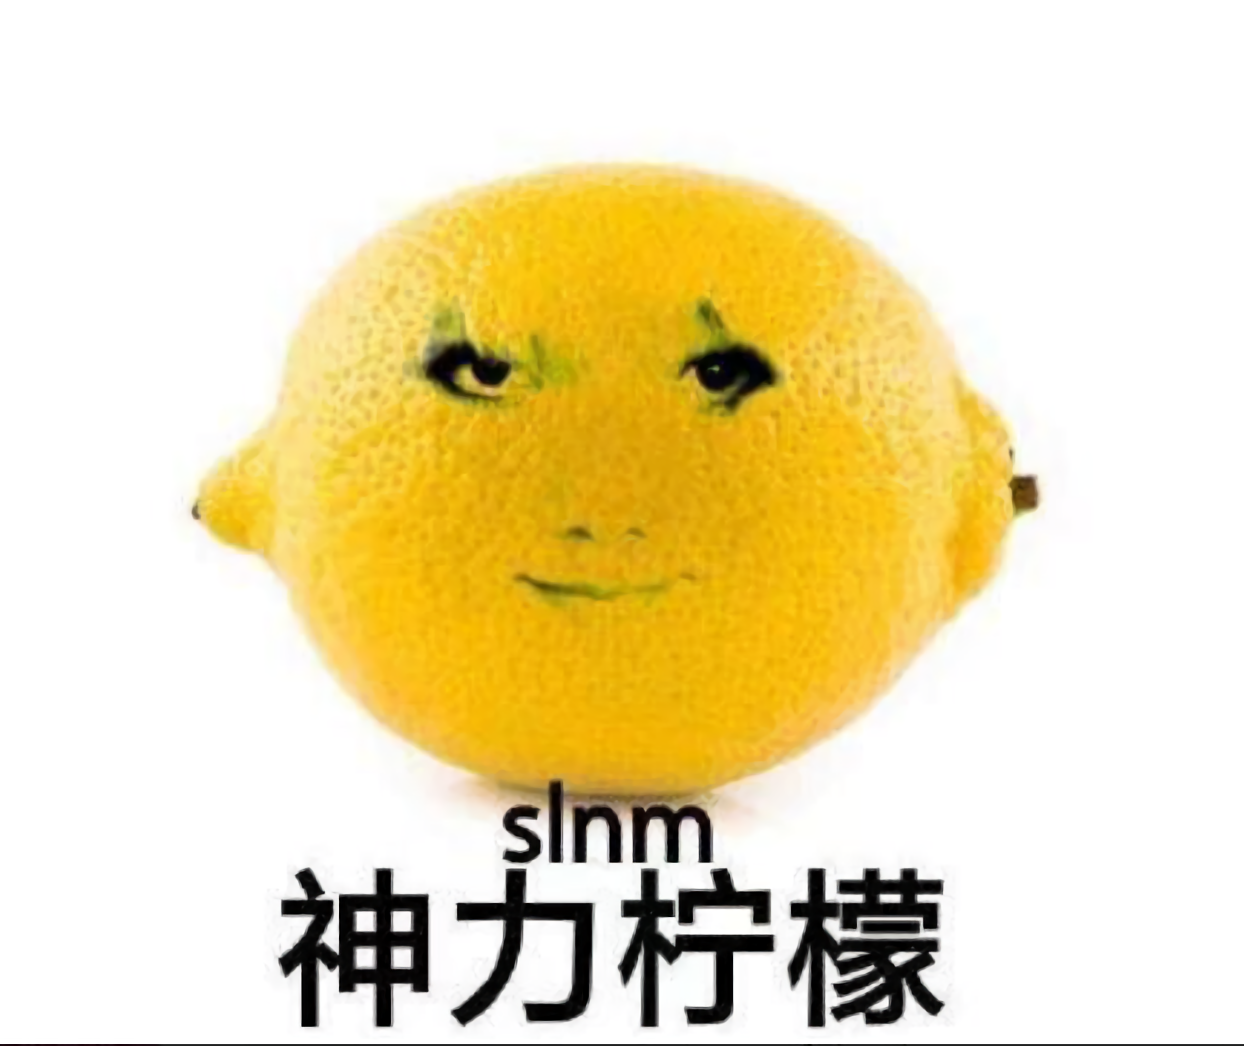dragon: (405, 310, 794, 624)
